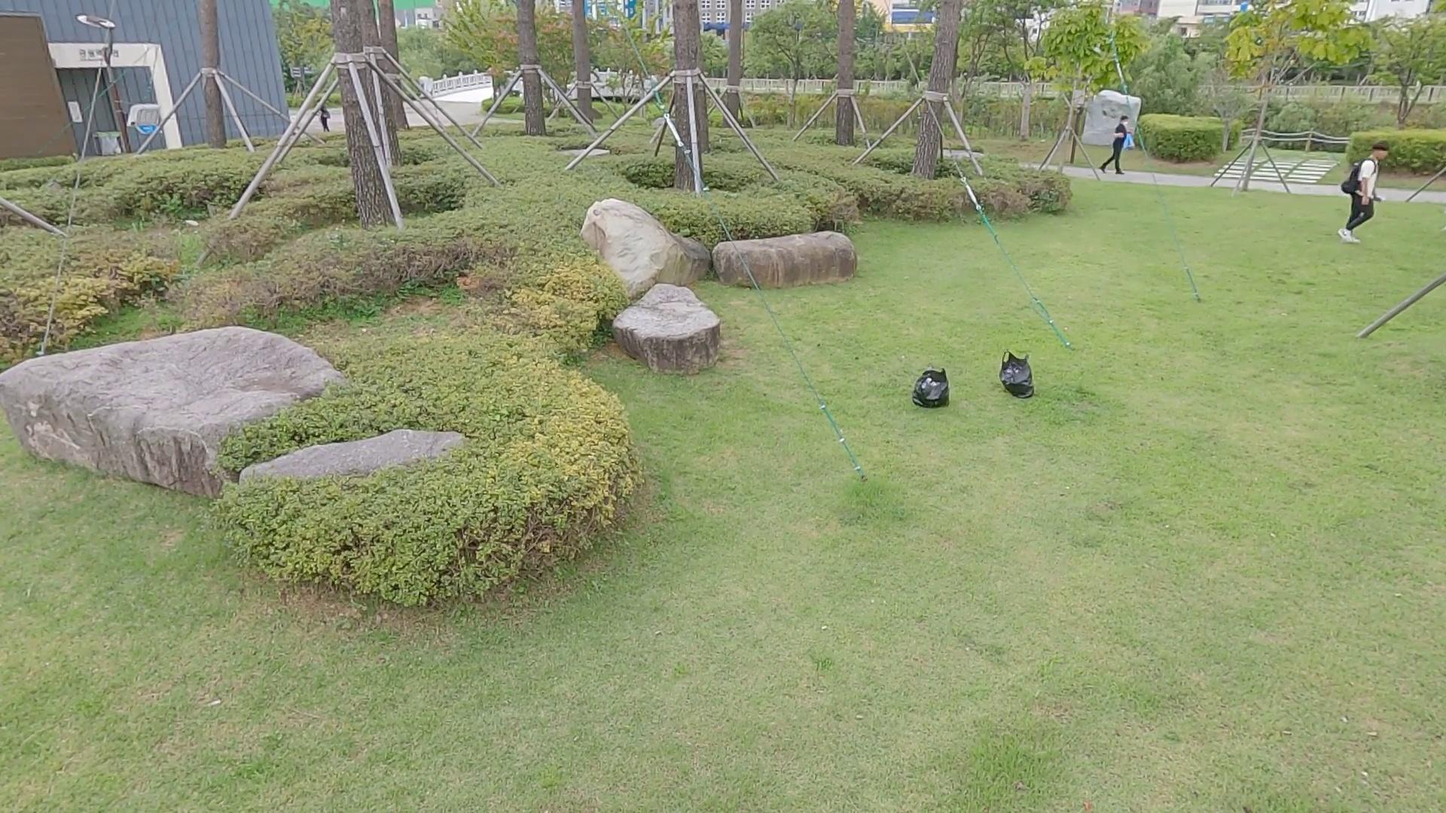person: (1341, 138, 1395, 242), (1101, 114, 1138, 174)
trash: (912, 361, 952, 416), (997, 350, 1037, 397), (1121, 130, 1140, 151)
